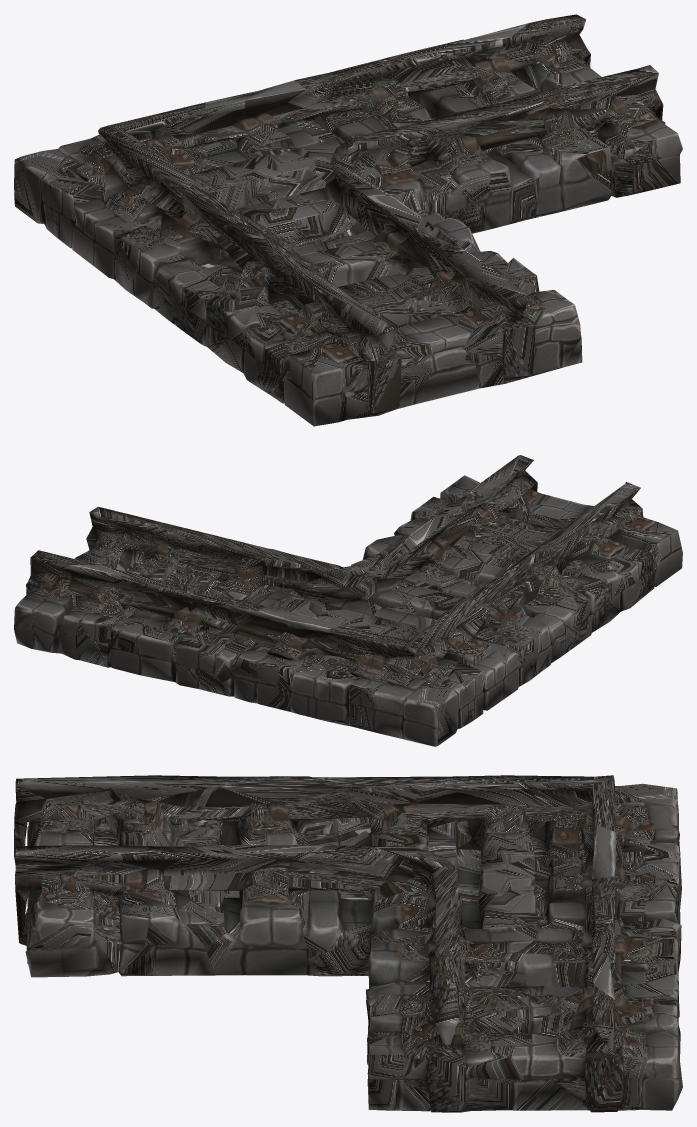
The model's file is stone_tile_rail_corner_01.glb.
The picture shows the model from 3 angles, top to bottom: view 1: azimuth 30°, elevation 25°; view 2: azimuth 150°, elevation 25°; view 3: azimuth 270°, elevation 25°; orthographic projection. The views are drawn at different scales.
Parts seen in each view (by area): view 1: tripo_node_1a84a7d3-ad12-4ffb-b80e-8069d1142104; view 2: tripo_node_1a84a7d3-ad12-4ffb-b80e-8069d1142104; view 3: tripo_node_1a84a7d3-ad12-4ffb-b80e-8069d1142104.
Boxes of the visible parts, box(x1,y1,x2,y2) form: tripo_node_1a84a7d3-ad12-4ffb-b80e-8069d1142104: box(14, 14, 682, 426); tripo_node_1a84a7d3-ad12-4ffb-b80e-8069d1142104: box(14, 455, 682, 746); tripo_node_1a84a7d3-ad12-4ffb-b80e-8069d1142104: box(14, 775, 682, 1112).
Size of the model in its own units: 0.9775 by 0.1553 by 0.9829.
Materials: 1 (1 with a texture image).
